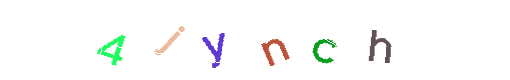4: (88, 0, 168, 80)
C: (282, 0, 362, 80)
H: (290, 0, 370, 80)
J: (164, 0, 244, 80)
N: (215, 0, 295, 80)
Y: (175, 0, 255, 80)
